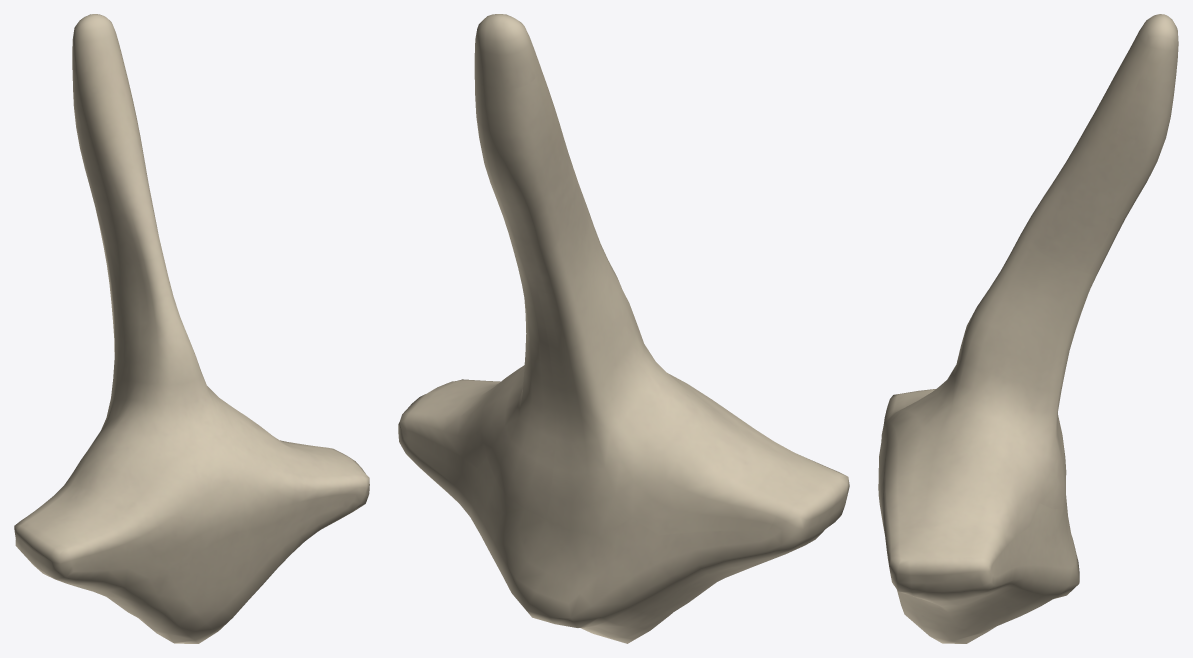
Rendered from vertebrae thoracicae 01.fbx.
3 renders of one model, left to right at view 1: azimuth 30°, elevation 25°; view 2: azimuth 150°, elevation 25°; view 3: azimuth 270°, elevation 25°, orthographic. The views are drawn at different scales.
Visible parts, largest first — view 1: vertebrae thoracicae 01; view 2: vertebrae thoracicae 01; view 3: vertebrae thoracicae 01.
Part boxes in pixels (x1,y1,x2,y2): vertebrae thoracicae 01: (14, 14, 369, 643); vertebrae thoracicae 01: (398, 14, 849, 643); vertebrae thoracicae 01: (878, 14, 1178, 643).
Bounding box in the file's own units: 8.87 × 14.59 × 6.36.
